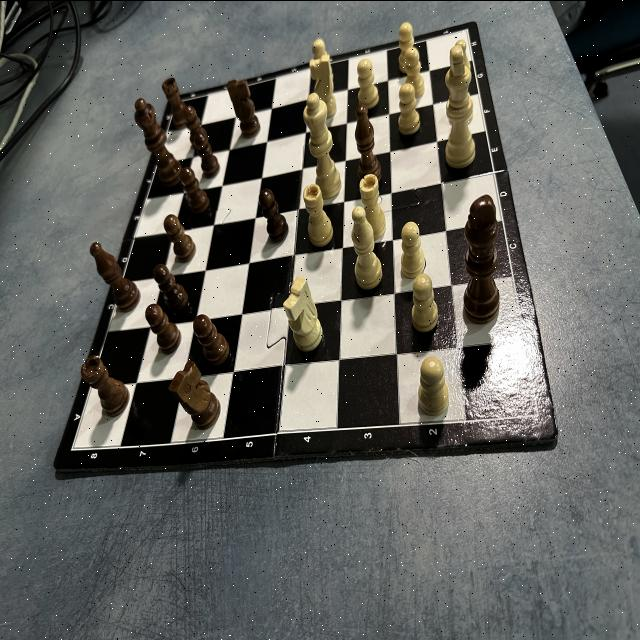Black-Bishop: (89, 242, 140, 311), (355, 104, 383, 182)
Black-King: (463, 194, 499, 324)
Black-Knight: (167, 359, 221, 428), (227, 78, 260, 136)
Black-Pawn: (192, 313, 230, 363), (145, 302, 181, 352), (152, 262, 188, 308), (259, 188, 288, 240), (164, 212, 196, 259), (193, 130, 220, 176), (180, 167, 208, 211), (183, 104, 209, 146)
Black-Queen: (134, 98, 181, 186)
Black-Rook: (80, 356, 128, 416), (162, 75, 188, 125)
White-Bishop: (352, 205, 382, 288)
White-King: (444, 46, 476, 166)
White-Knight: (282, 276, 322, 352), (308, 54, 338, 116)
White-Pawn: (416, 358, 449, 414), (411, 273, 439, 332), (401, 222, 424, 278), (398, 82, 420, 132), (404, 46, 424, 98), (356, 60, 378, 106), (398, 21, 416, 67), (311, 38, 327, 58)
White-Queen: (302, 92, 340, 198)
White-Rook: (303, 183, 333, 246), (359, 173, 385, 238)
